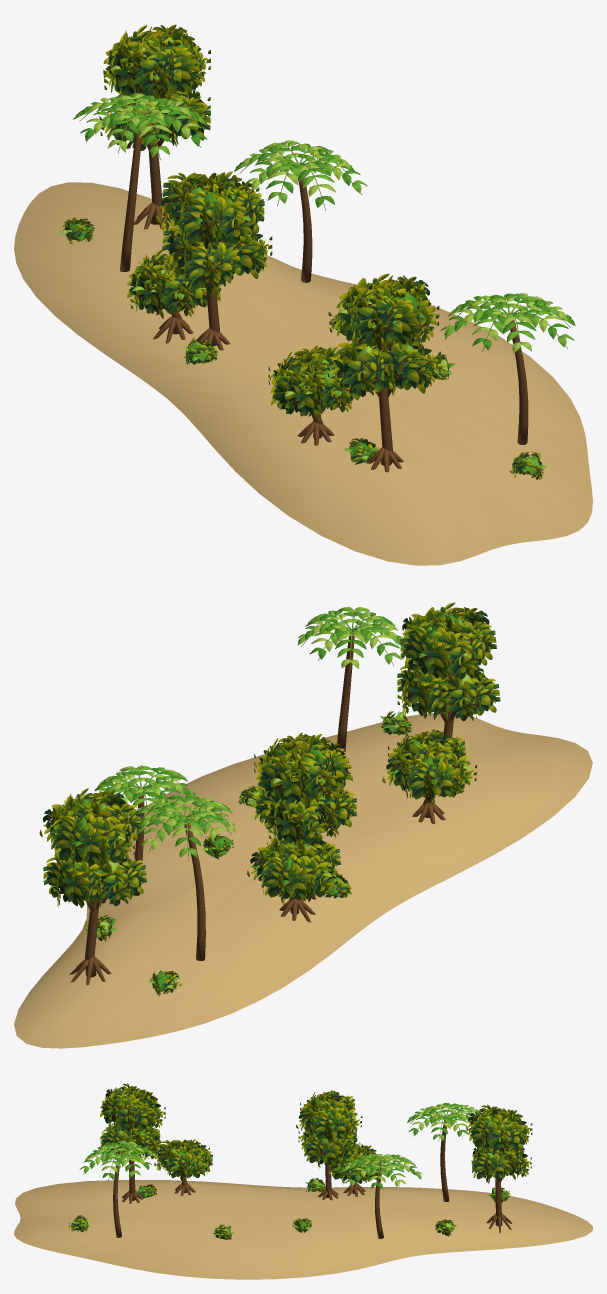
Rendered from shore-mangrove.glb.
The picture shows the model from 3 angles, top to bottom: view 1: azimuth 30°, elevation 25°; view 2: azimuth 150°, elevation 25°; view 3: azimuth 270°, elevation 25°; orthographic projection. The views are drawn at different scales.
Parts seen in each view (by area): view 1: Study warm sand, Study painted foliage, Study warm wood, Study foliage 1, Study foliage 0, Study foliage 2; view 2: Study warm sand, Study painted foliage, Study warm wood, Study foliage 1, Study foliage 0, Study foliage 2; view 3: Study warm sand, Study painted foliage, Study warm wood, Study foliage 1, Study foliage 0, Study foliage 2.
Part boxes in pixels (x1,y1,x2,y2): Study warm sand: (14,182,592,565); Study painted foliage: (62,24,544,479); Study warm wood: (120,90,528,472); Study foliage 1: (66,39,574,475); Study foliage 0: (65,43,575,472); Study foliage 2: (59,46,567,466); Study warm sand: (14,713,592,1048); Study painted foliage: (39,602,500,996); Study warm wood: (69,633,456,985); Study foliage 1: (49,608,469,983); Study foliage 0: (65,610,464,991); Study foliage 2: (93,606,477,988); Study warm sand: (14,1179,592,1279); Study painted foliage: (69,1083,532,1239); Study warm wood: (113,1118,512,1238); Study foliage 1: (72,1094,511,1234); Study foliage 0: (73,1098,524,1235); Study foliage 2: (69,1104,477,1237).
Size of the model in its own units: 18.05 by 10.43 by 44.23.
Materials: 6 (1 with a texture image).
